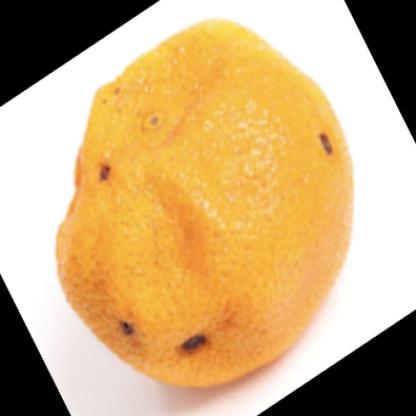rotten: (57, 19, 356, 389)
